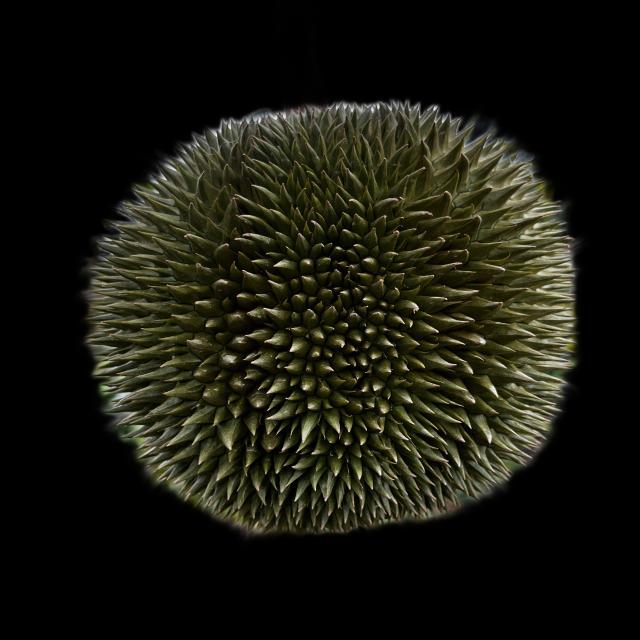immature: (81, 98, 567, 528)
